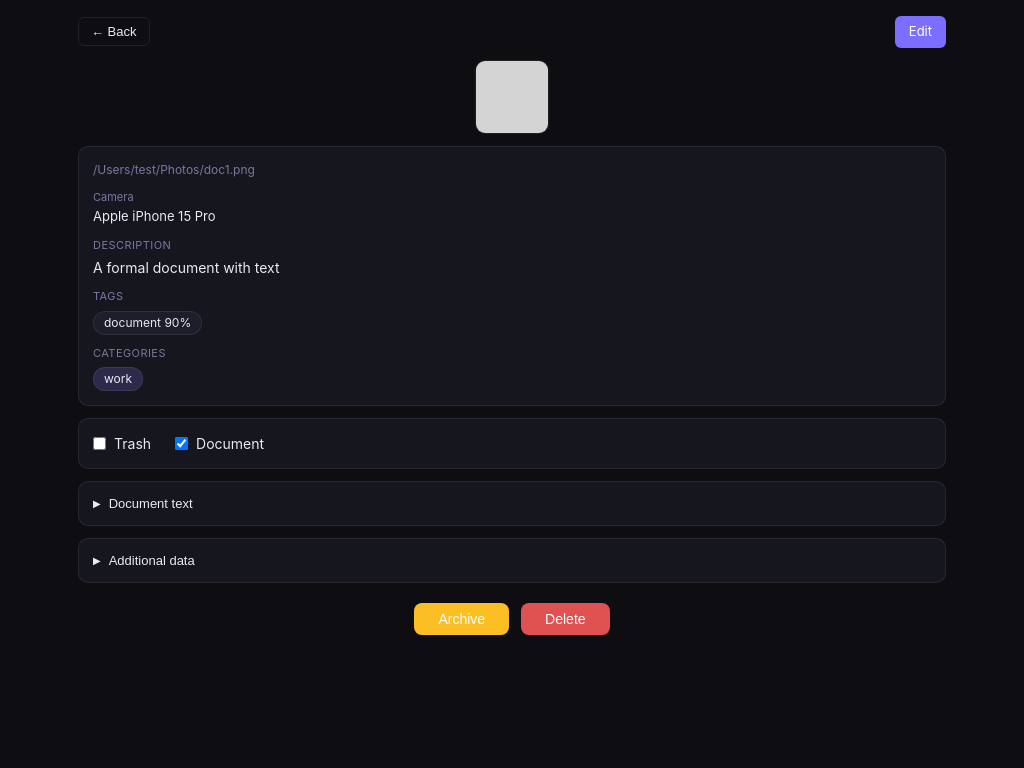
PhotoDetailPage › shows OCR panel only when is_doc=true
Step 1. Click the button "▶ Document text" → (151, 504), box [93,496,931,511]
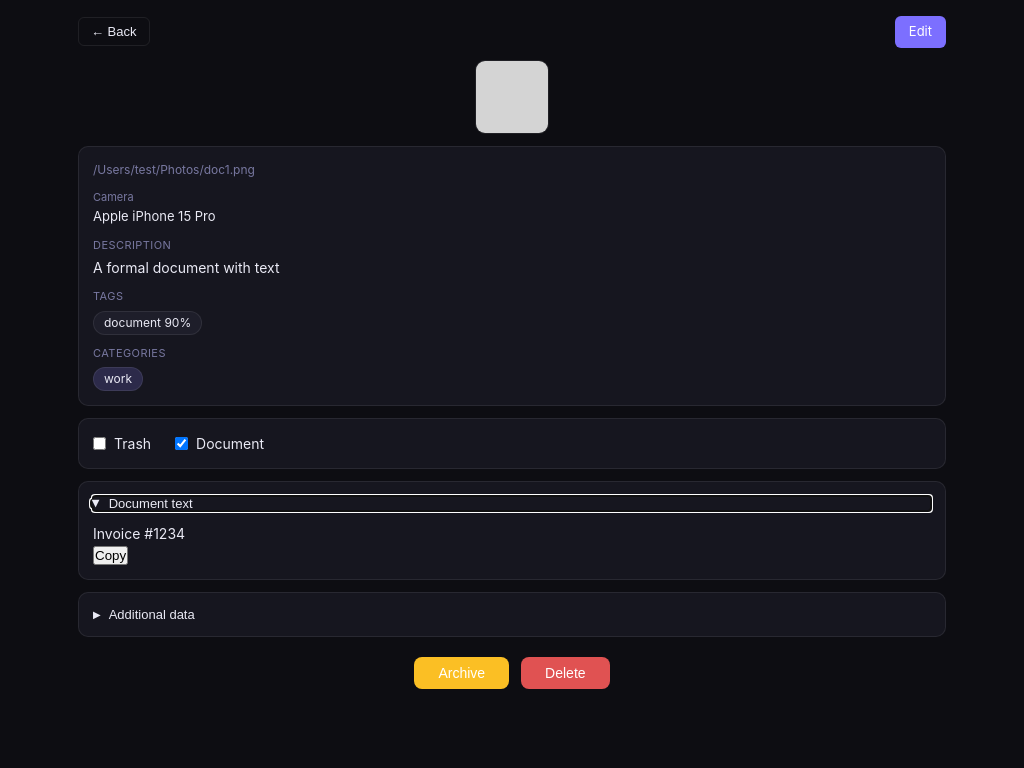
Expected: the text "Invoice #1234" is shown, [93,525,185,542]
